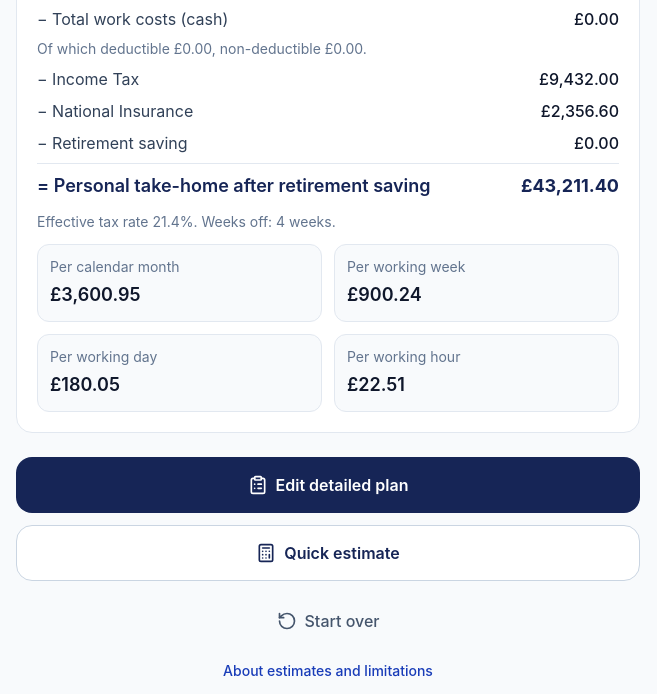
Scenario: Home › clears the active plan with Start over and returns to the marketing Home
The image size is (657, 694).
(page scrolled)
Click the button "Start over": point(328, 621) 16,593 -> 640,649
(page scrolled)
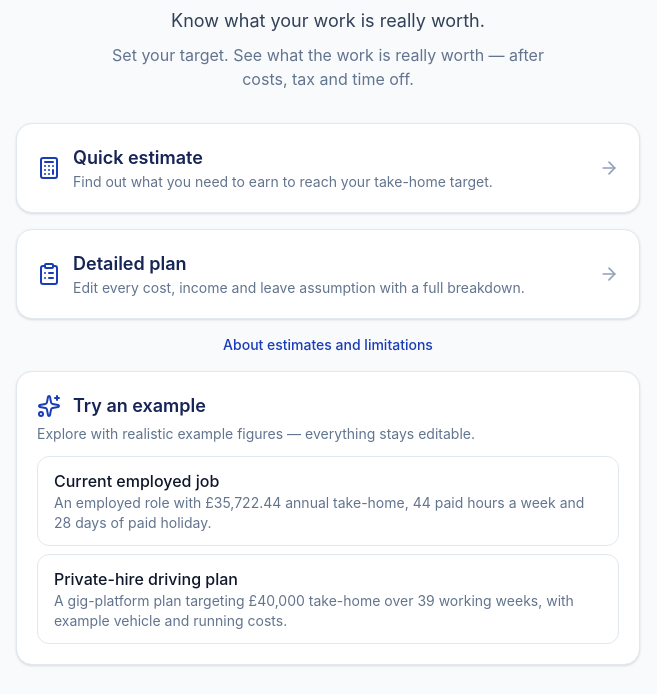
Result: the text "Know what your work is really worth." is shown at 171,7 -> 485,35
